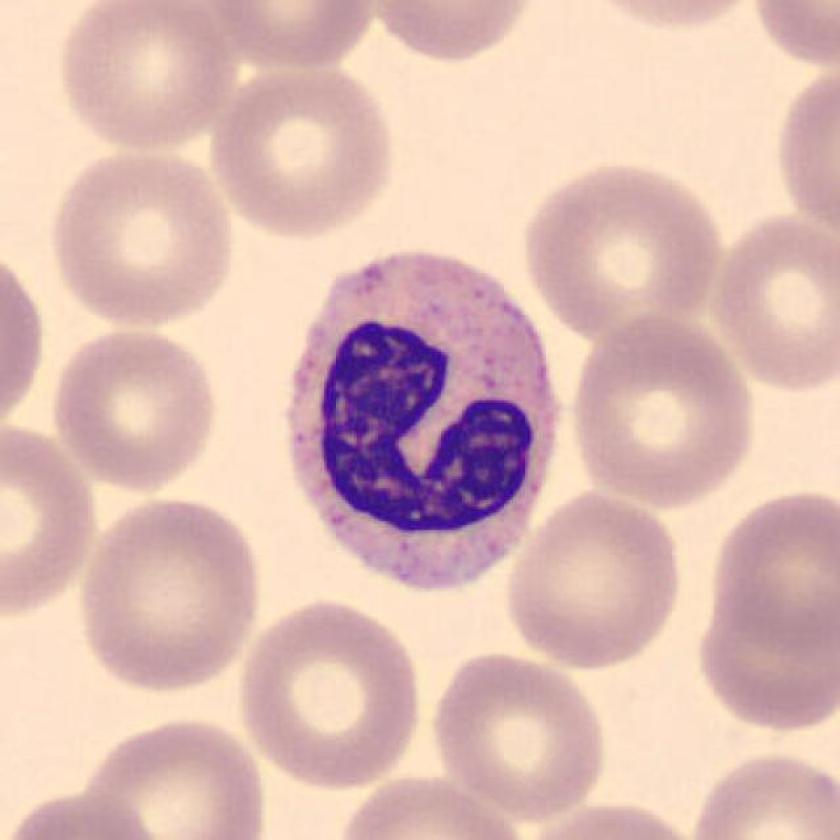neutrophil: (290, 253, 559, 589)
